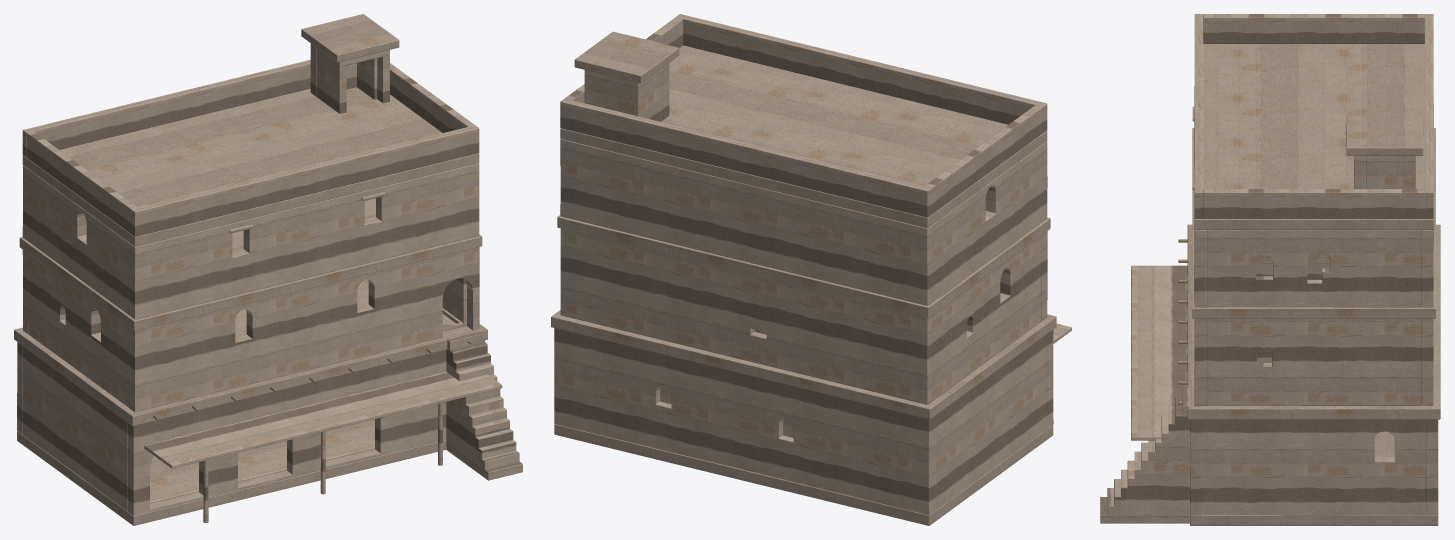
Rendered from shops_19.glb.
3 renders of one model, left to right at view 1: azimuth 30°, elevation 25°; view 2: azimuth 150°, elevation 25°; view 3: azimuth 270°, elevation 25°, orthographic. The views are drawn at different scales.
Parts seen in each view (by area): view 1: shops; view 2: shops; view 3: shops.
Part boxes in pixels (x1,y1,x2,y2): shops: (14, 14, 522, 525); shops: (551, 14, 1071, 525); shops: (1100, 14, 1440, 525).
Bounding box in the file's own units: 14.78 × 13.89 × 11.51.
3 materials, 3 textured.
